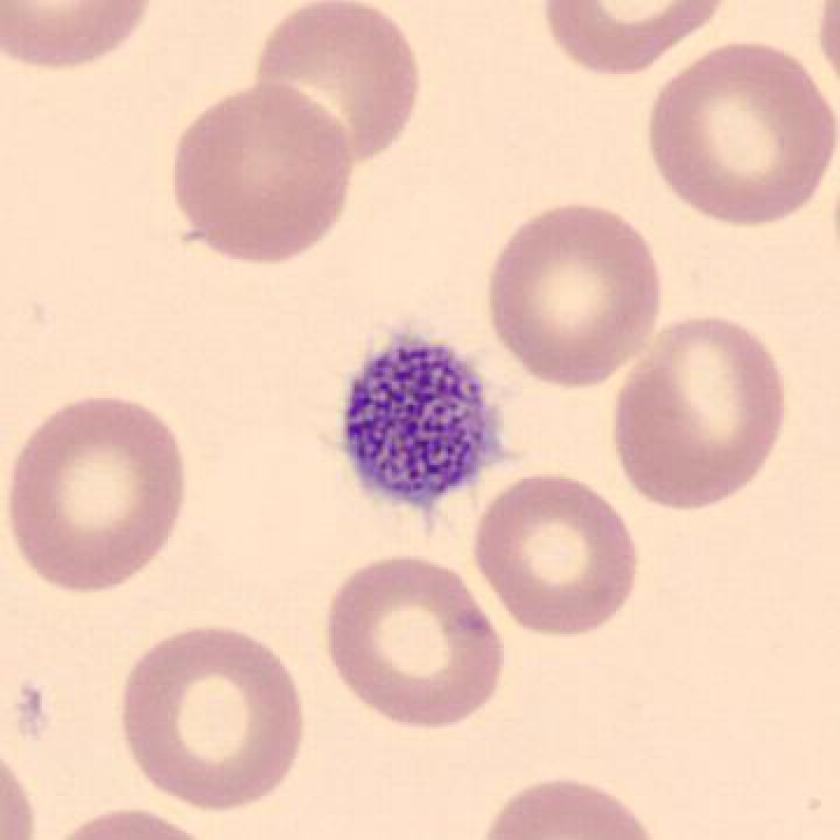platelets: (328, 318, 507, 522)
